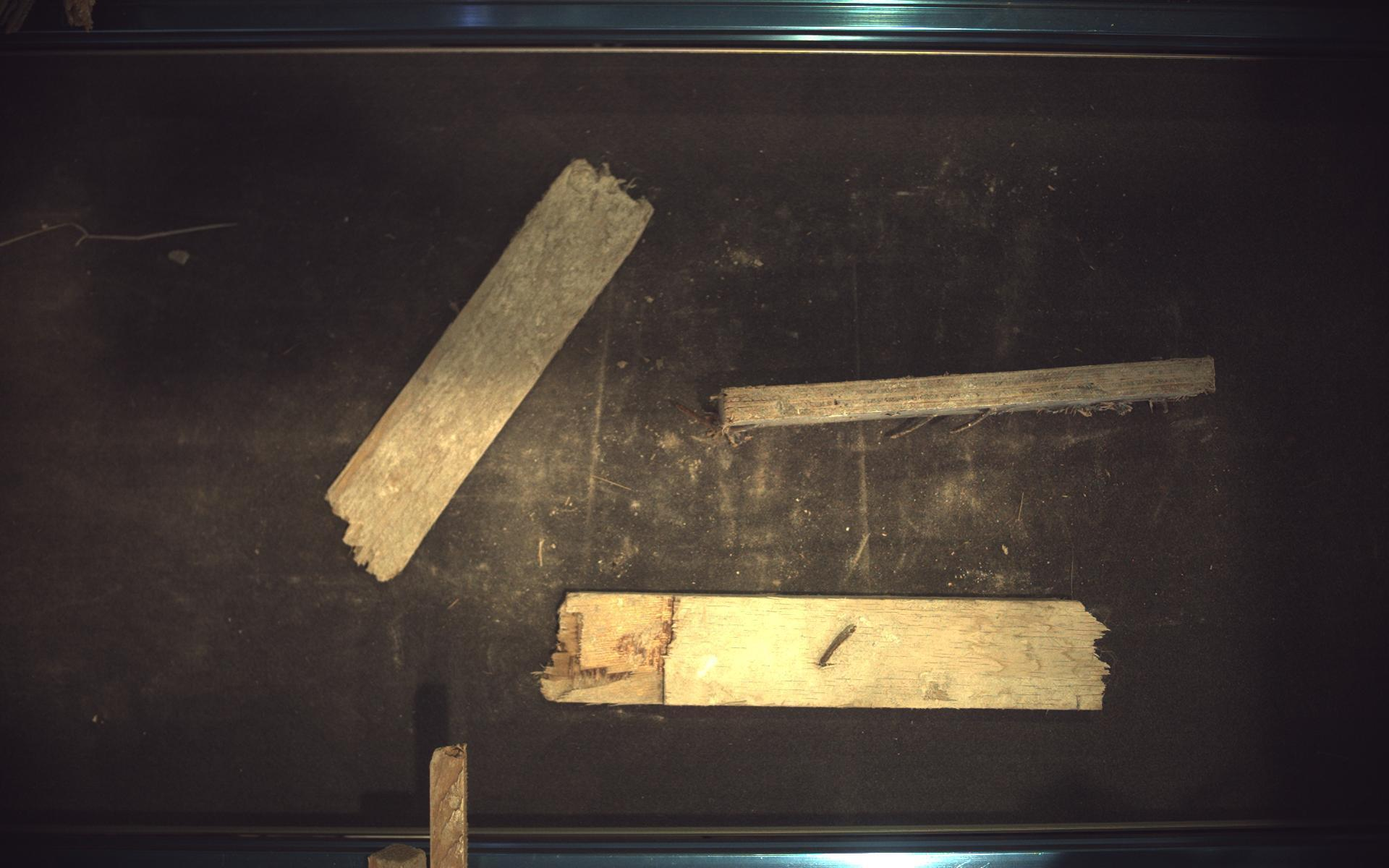wood: (326, 158, 654, 582), (721, 357, 1218, 430)
